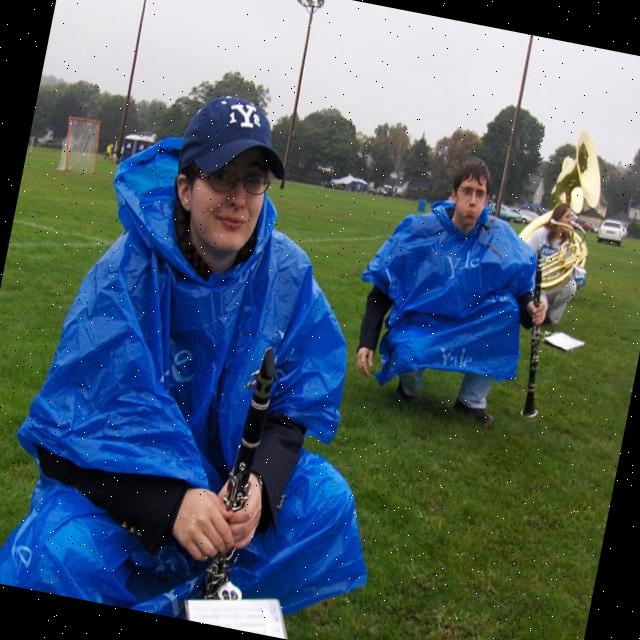clarinet: (192, 338, 286, 612), (499, 245, 574, 428)
